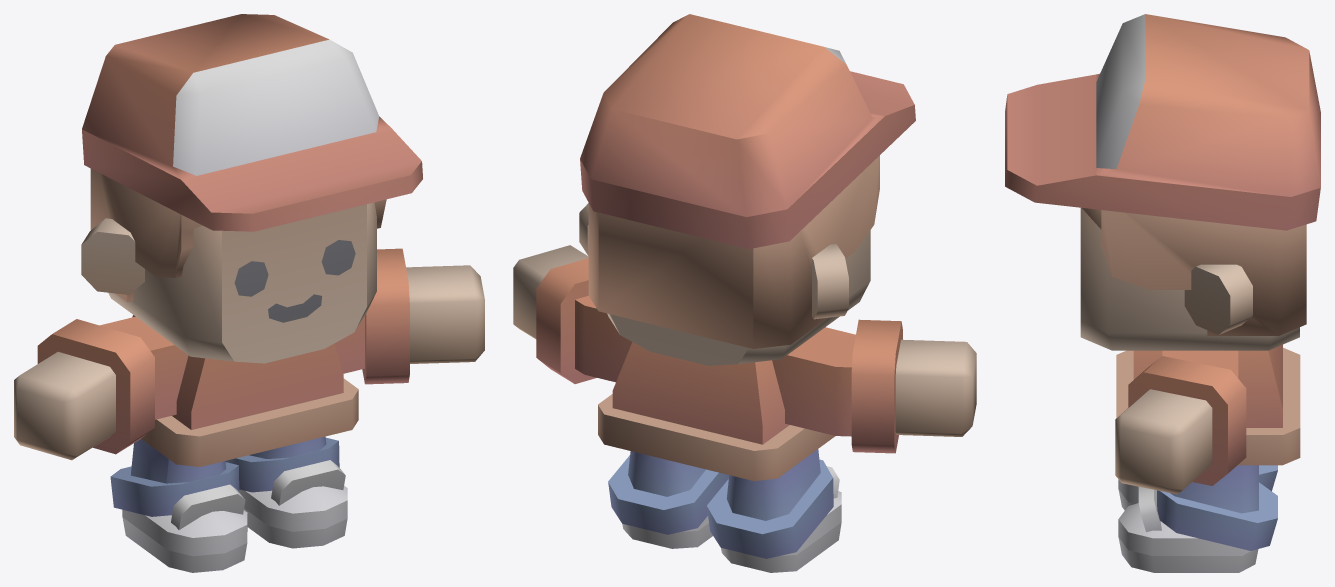
The model's file is kid.glb.
3 views of the same model, side by side, from view 1: azimuth 30°, elevation 25°; view 2: azimuth 150°, elevation 25°; view 3: azimuth 270°, elevation 25° (orthographic).
Visible parts, largest first — view 1: kid; view 2: kid; view 3: kid.
Part boxes in pixels (x1,y1,x2,y2): kid: (14, 14, 484, 572); kid: (513, 14, 976, 572); kid: (1005, 14, 1320, 572).
Size of the model in its own units: 0.7672 by 0.7798 by 0.461.
